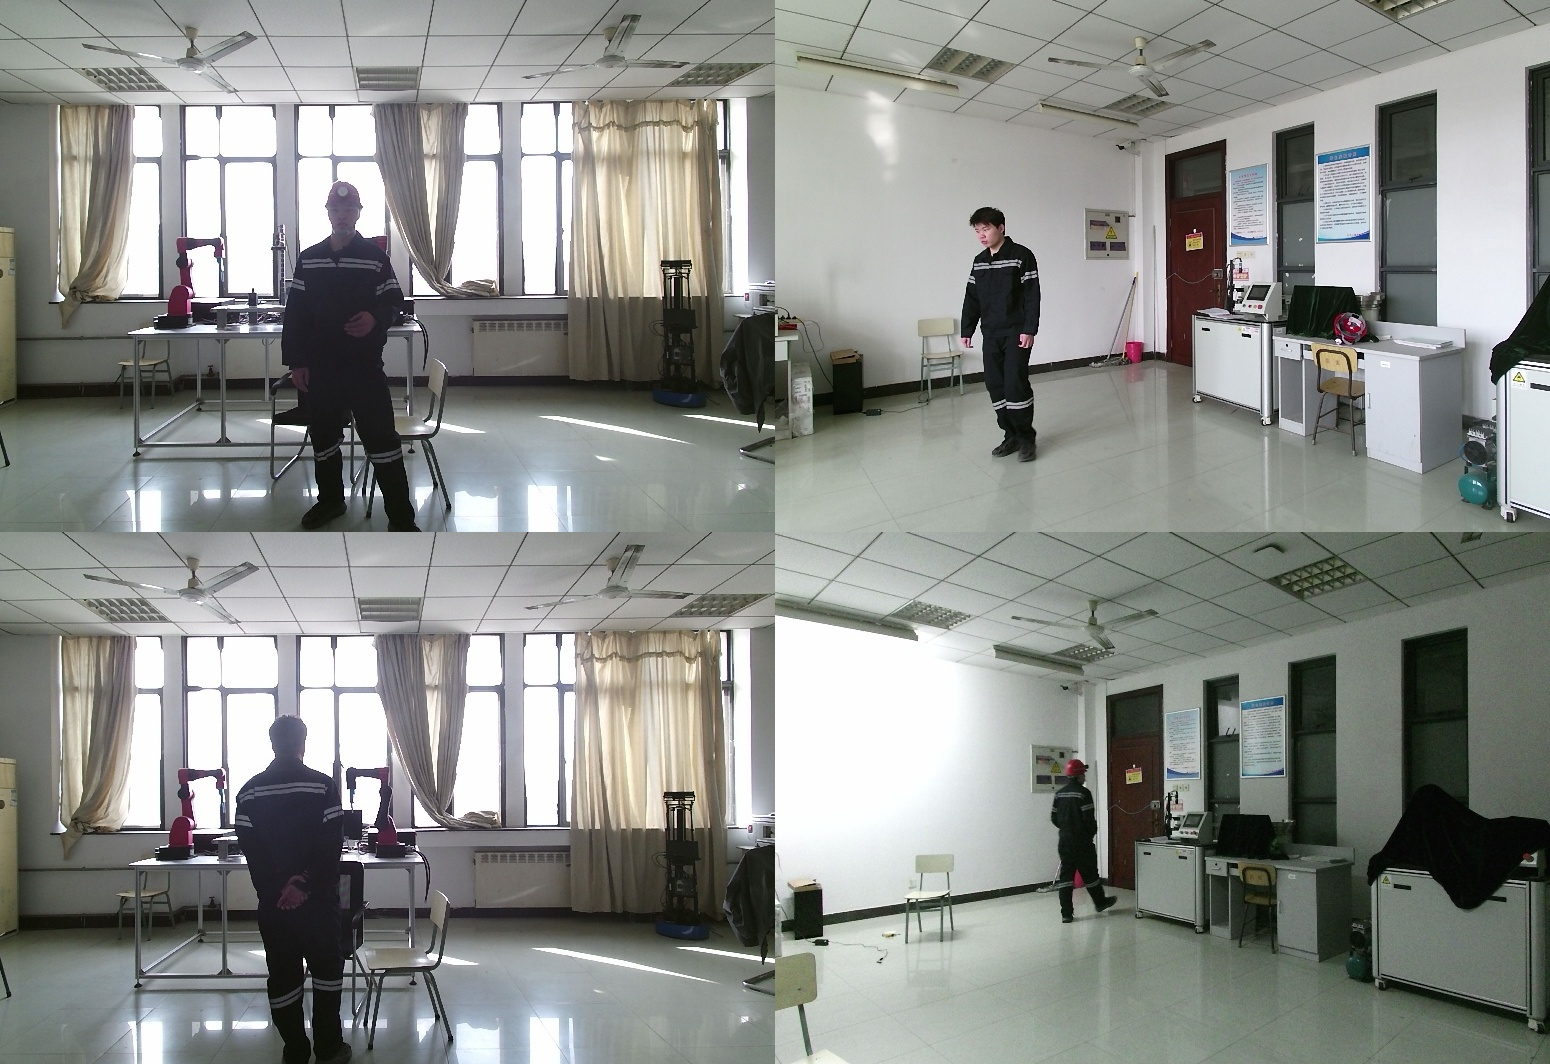person: (283, 182, 417, 532), (233, 717, 361, 1064), (962, 207, 1064, 458), (1050, 761, 1117, 924)
